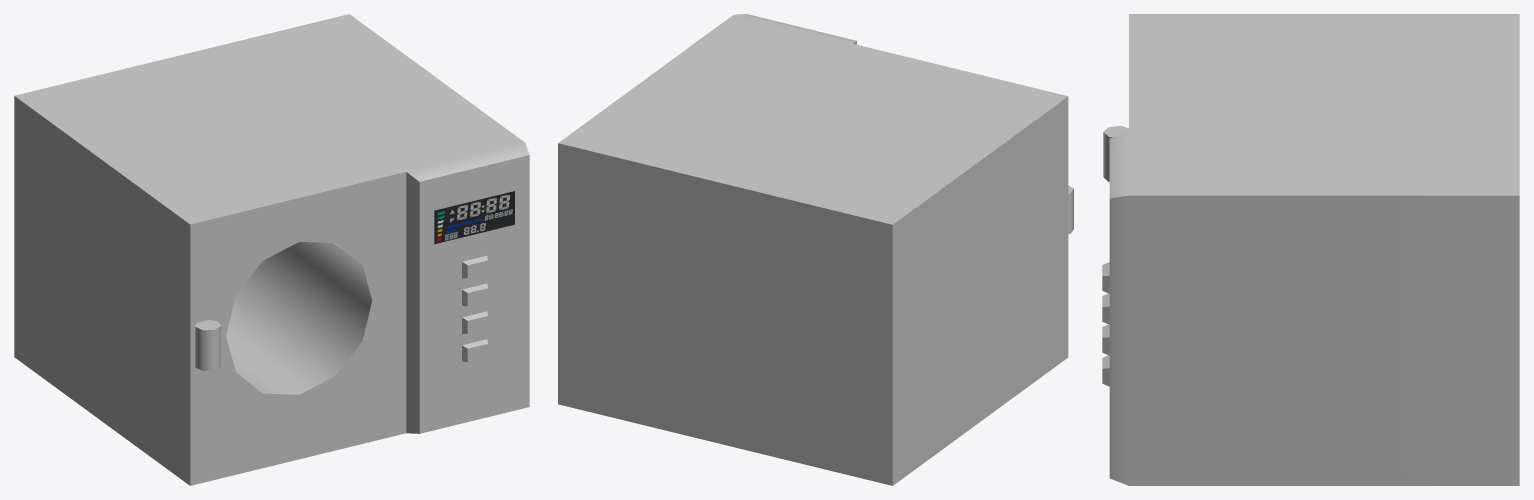
File: Autoclave_01.fbx
3 views of the same model, side by side, from view 1: azimuth 30°, elevation 25°; view 2: azimuth 150°, elevation 25°; view 3: azimuth 270°, elevation 25° (orthographic). The views are drawn at different scales.
Visible parts, largest first — view 1: Autoclave_01; view 2: Autoclave_01; view 3: Autoclave_01.
Part boxes in pixels (left/top/right/bottom): Autoclave_01: left=14, top=14, right=529, bottom=485; Autoclave_01: left=558, top=14, right=1073, bottom=485; Autoclave_01: left=1102, top=14, right=1519, bottom=485.
Size of the model in its own units: 55 by 53.45 by 41.
